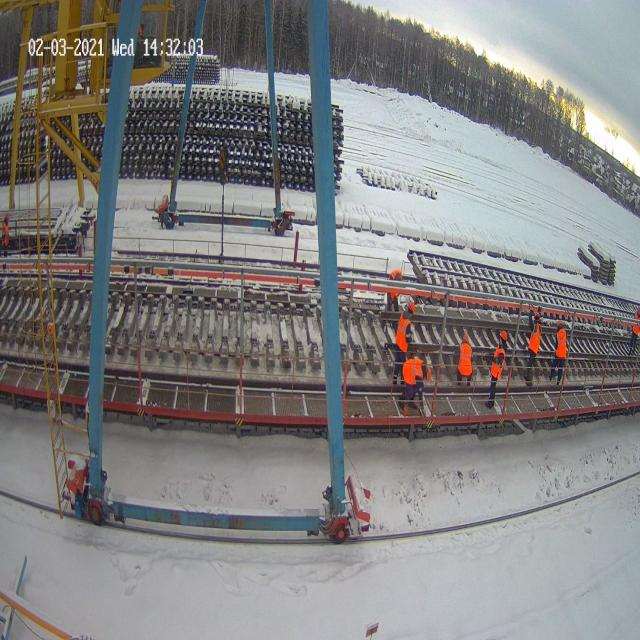Helmet: (408, 298, 418, 316), (426, 361, 434, 383), (555, 319, 567, 328), (534, 306, 541, 319), (500, 330, 508, 340), (462, 334, 468, 342)
Person: (400, 345, 430, 416), (392, 300, 416, 384), (524, 306, 542, 386), (485, 341, 505, 409), (549, 320, 568, 384), (456, 333, 473, 385), (386, 268, 404, 310), (629, 304, 640, 358), (2, 212, 9, 270)
